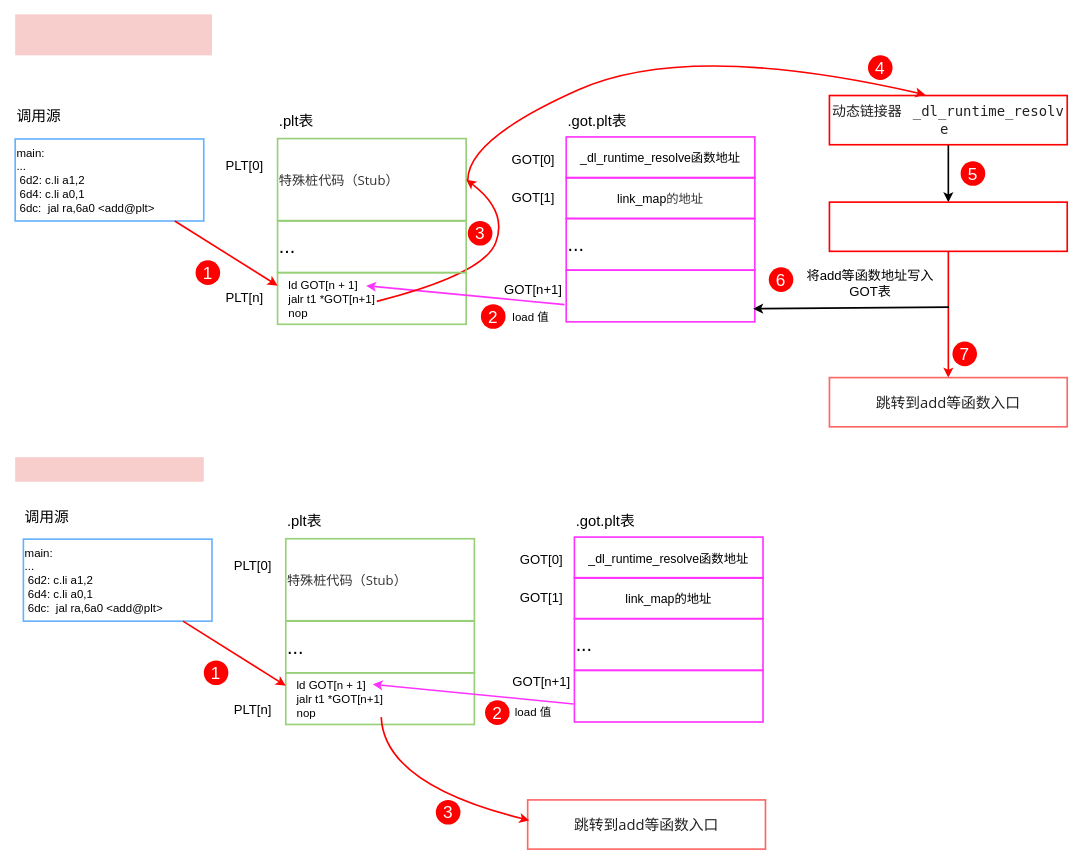
Some shapes in this 1082 by 863 pixel diagram are drawn without their labels. Here are the shapes that lost their labels. From the top down, the centre of each, then its label:
At (x=113, y=34): "PLT 控制流程（第一次调用）".
At (x=948, y=226): "从库中检索add等函数的地址".
At (x=660, y=295): "未运行时存放的是 PLT0 的起始地址".
At (x=109, y=469): "PLT 控制流程（后续调用）".
At (x=668, y=695): "第一次调用后，存放的是 库函数的真实地址".
